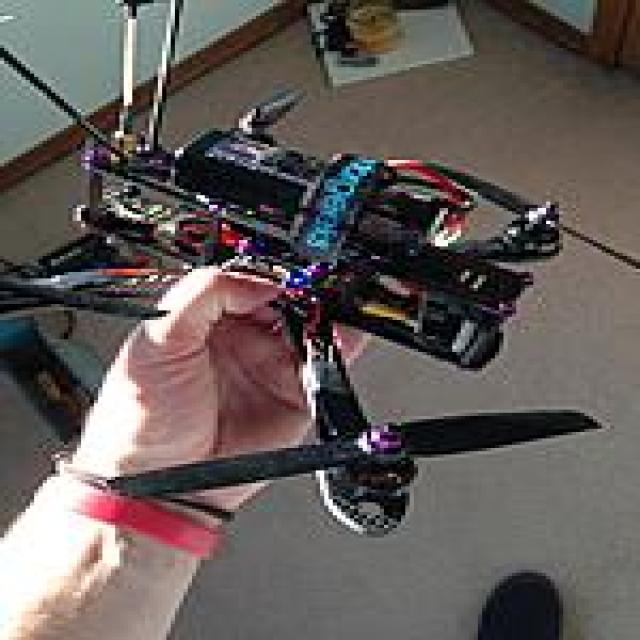drone: (4, 80, 606, 502)
